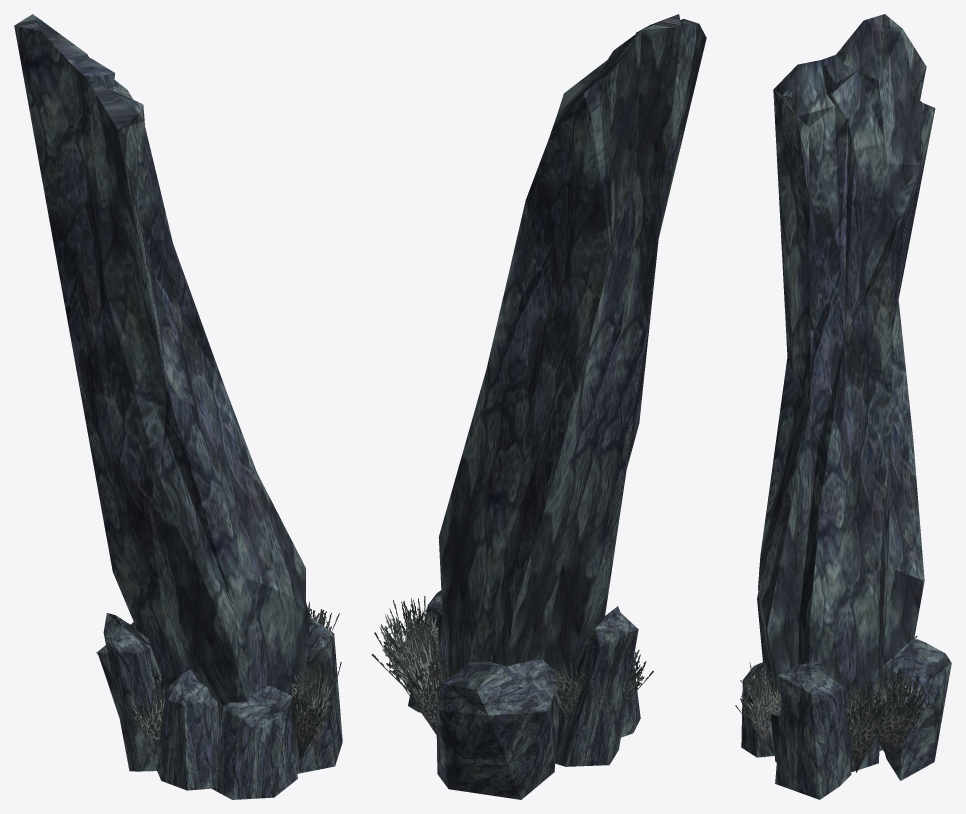
The model's file is C4SNLARGEROCKE.obj.
3 views of the same model, side by side, from view 1: azimuth 30°, elevation 25°; view 2: azimuth 150°, elevation 25°; view 3: azimuth 270°, elevation 25° (orthographic). The views are drawn at different scales.
Visible parts, largest first — view 1: Node 0; view 2: Node 0; view 3: Node 0.
Part boxes in pixels (x1,y1,x2,y2): Node 0: (14, 14, 342, 799); Node 0: (371, 14, 706, 799); Node 0: (735, 14, 951, 799).
Size of the model in its own units: 13.79 by 33.6 by 9.83.
2 materials, 2 textured.
